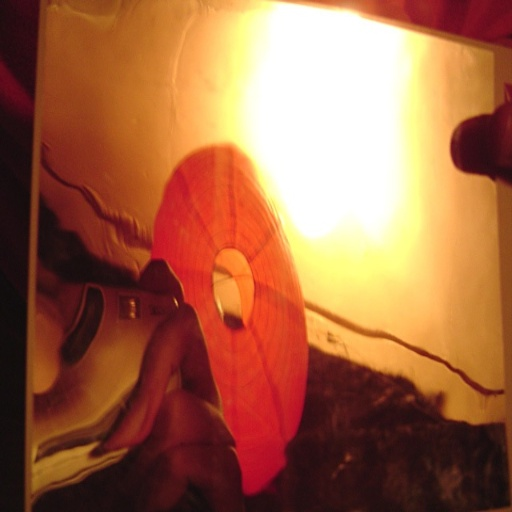hand: (100, 256, 241, 510)
